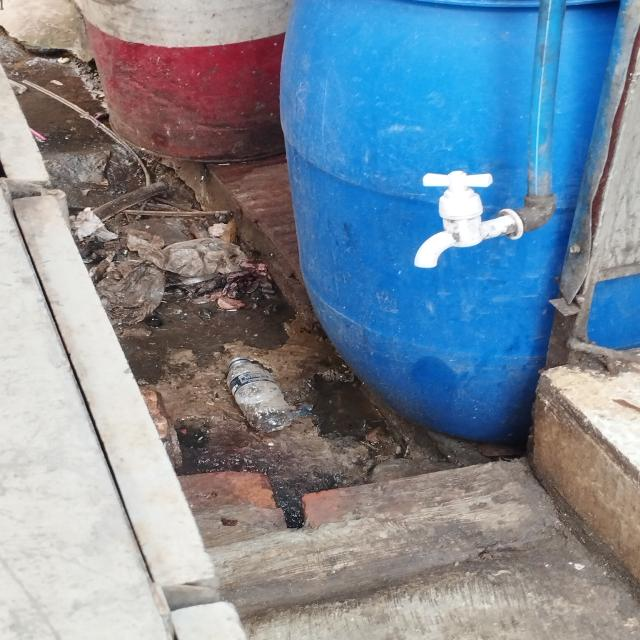plastic: (223, 352, 293, 432)
